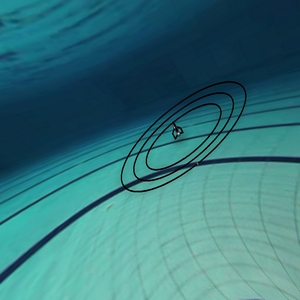circle: (114, 74, 255, 204)
submarine: (166, 121, 192, 144)
